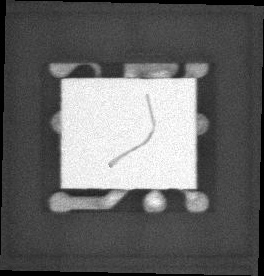DIE_INK: (103, 97, 150, 175)
